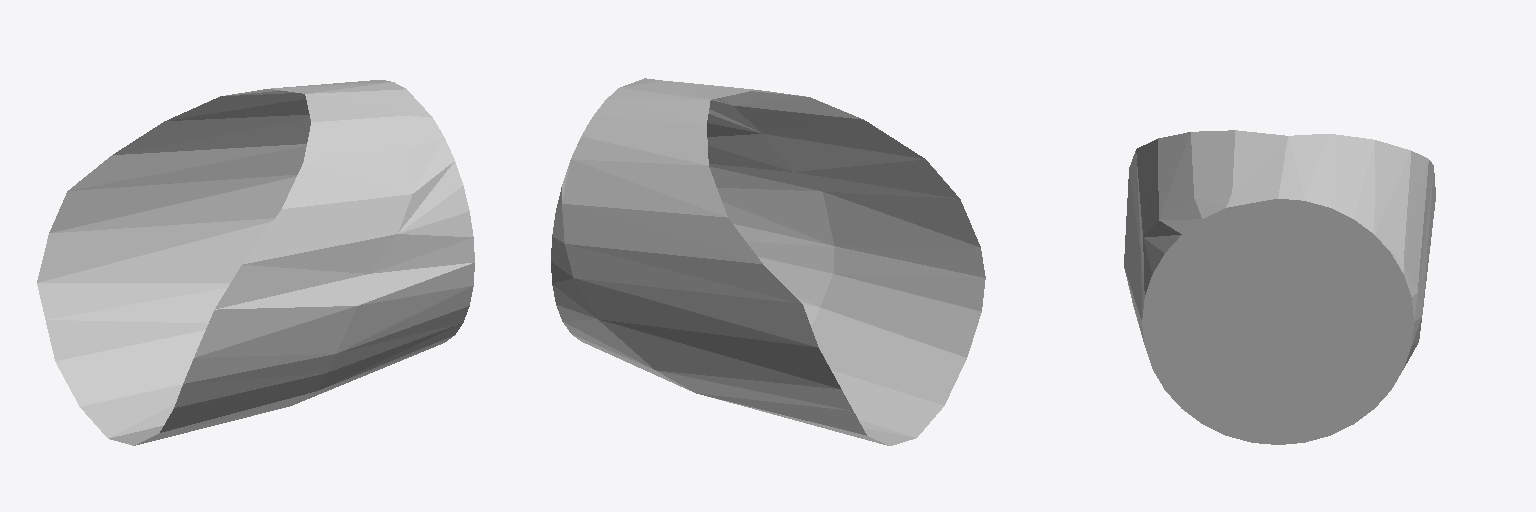
Rendered from RElbowRoll_milky.obj.
3 views of the same model, side by side, from view 1: azimuth 30°, elevation 25°; view 2: azimuth 150°, elevation 25°; view 3: azimuth 270°, elevation 25° (orthographic).
Size of the model in its own units: 0.7673 by 0.714 by 0.6915.